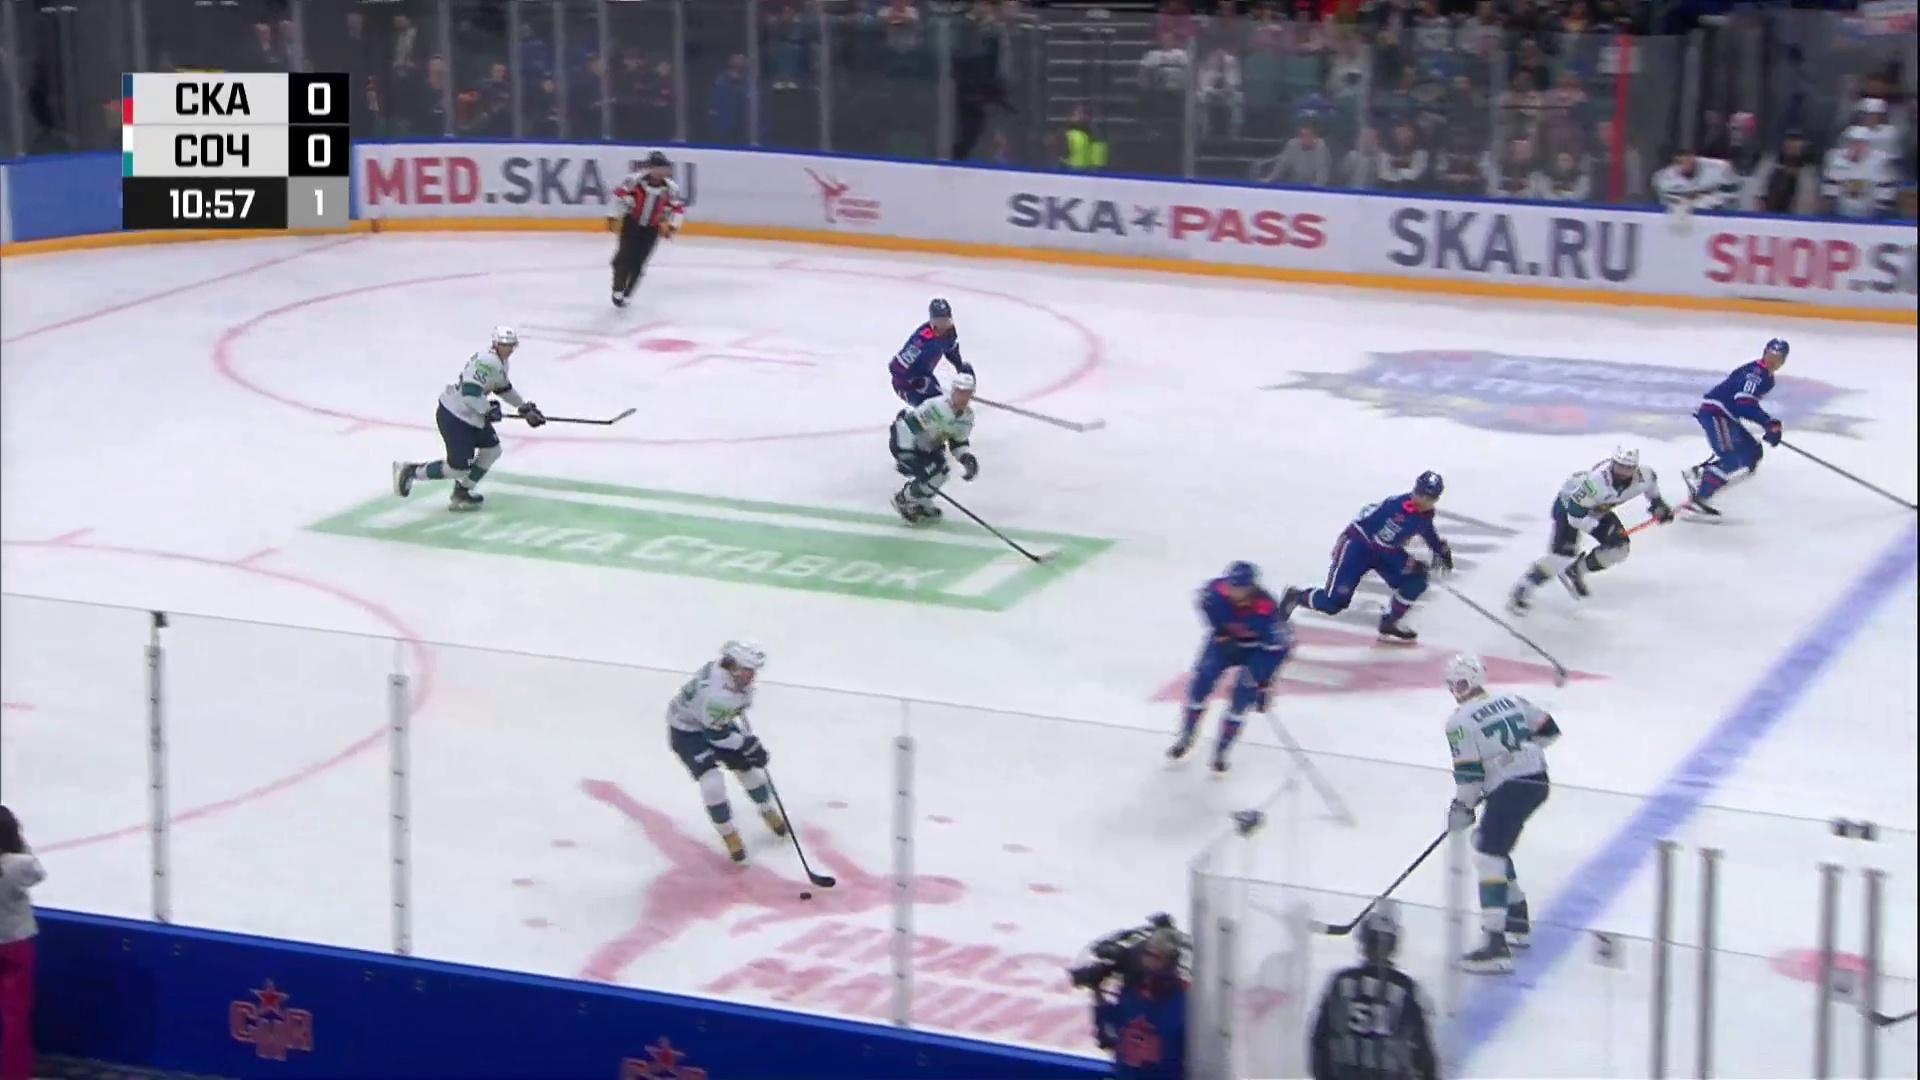ball: (800, 891, 812, 901)
